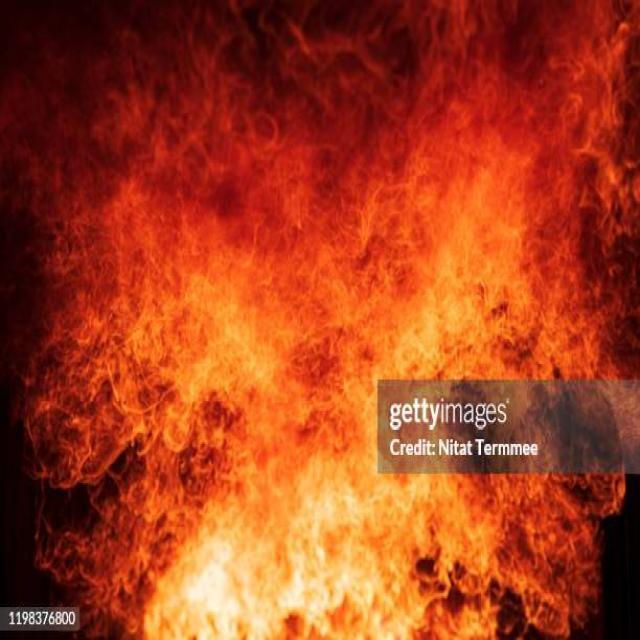fire: (47, 12, 379, 631), (381, 66, 589, 377), (353, 476, 578, 618)
